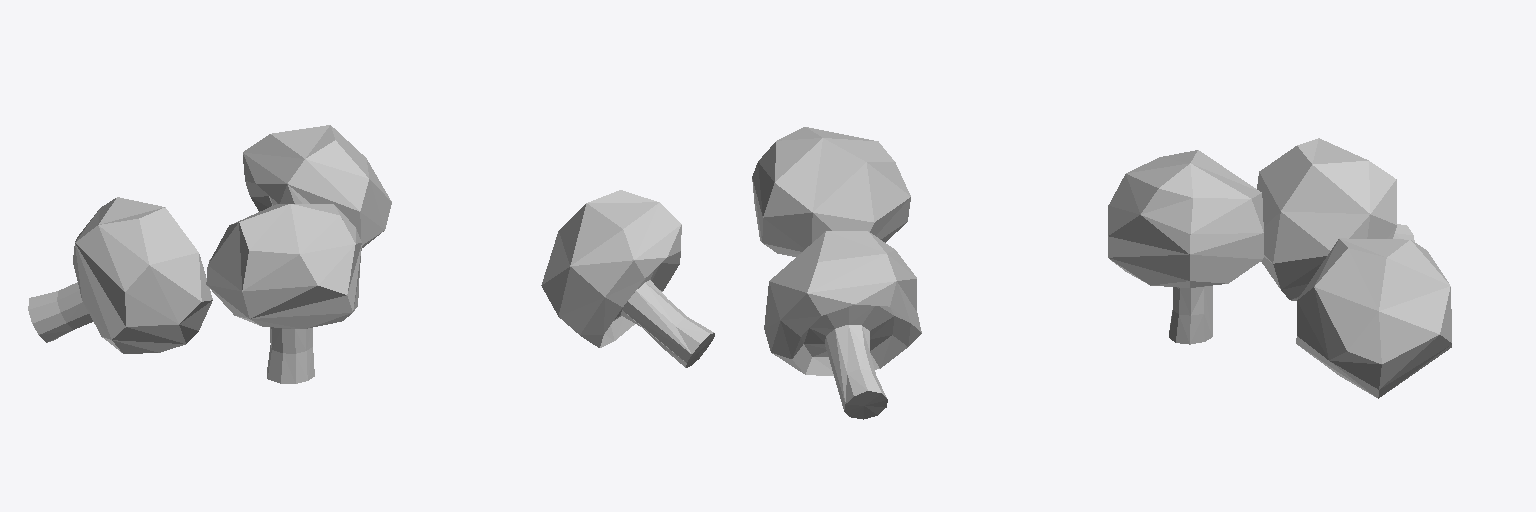
File: mushroom.obj
The picture shows the model from 3 angles: view 1: azimuth 30°, elevation 25°; view 2: azimuth 150°, elevation 25°; view 3: azimuth 270°, elevation 25°; orthographic projection.
Visible parts, largest first — view 1: Mushroom pDisc9, pDisc7 Mushroom, Mushroom pDisc8; view 2: Mushroom pDisc9, Mushroom pDisc8, pDisc7 Mushroom; view 3: pDisc7 Mushroom, Mushroom pDisc8, Mushroom pDisc9.
Boxes of the visible parts, box(x1,y1,x2,y2) form: Mushroom pDisc9: box(28, 197, 212, 353); pDisc7 Mushroom: box(206, 204, 361, 383); Mushroom pDisc8: box(209, 125, 391, 261); Mushroom pDisc9: box(764, 231, 921, 419); Mushroom pDisc8: box(541, 190, 714, 367); pDisc7 Mushroom: box(752, 127, 910, 256); pDisc7 Mushroom: box(1108, 150, 1263, 344); Mushroom pDisc8: box(1296, 238, 1451, 398); Mushroom pDisc9: box(1257, 138, 1414, 300).
Size of the model in its own units: 0.5191 by 0.2532 by 0.4511.